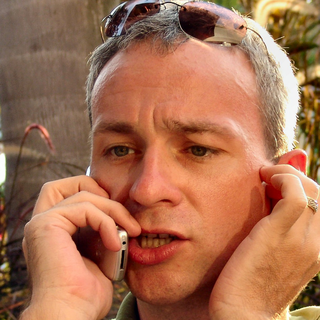eye: (174, 140, 230, 165), (99, 140, 142, 163)
